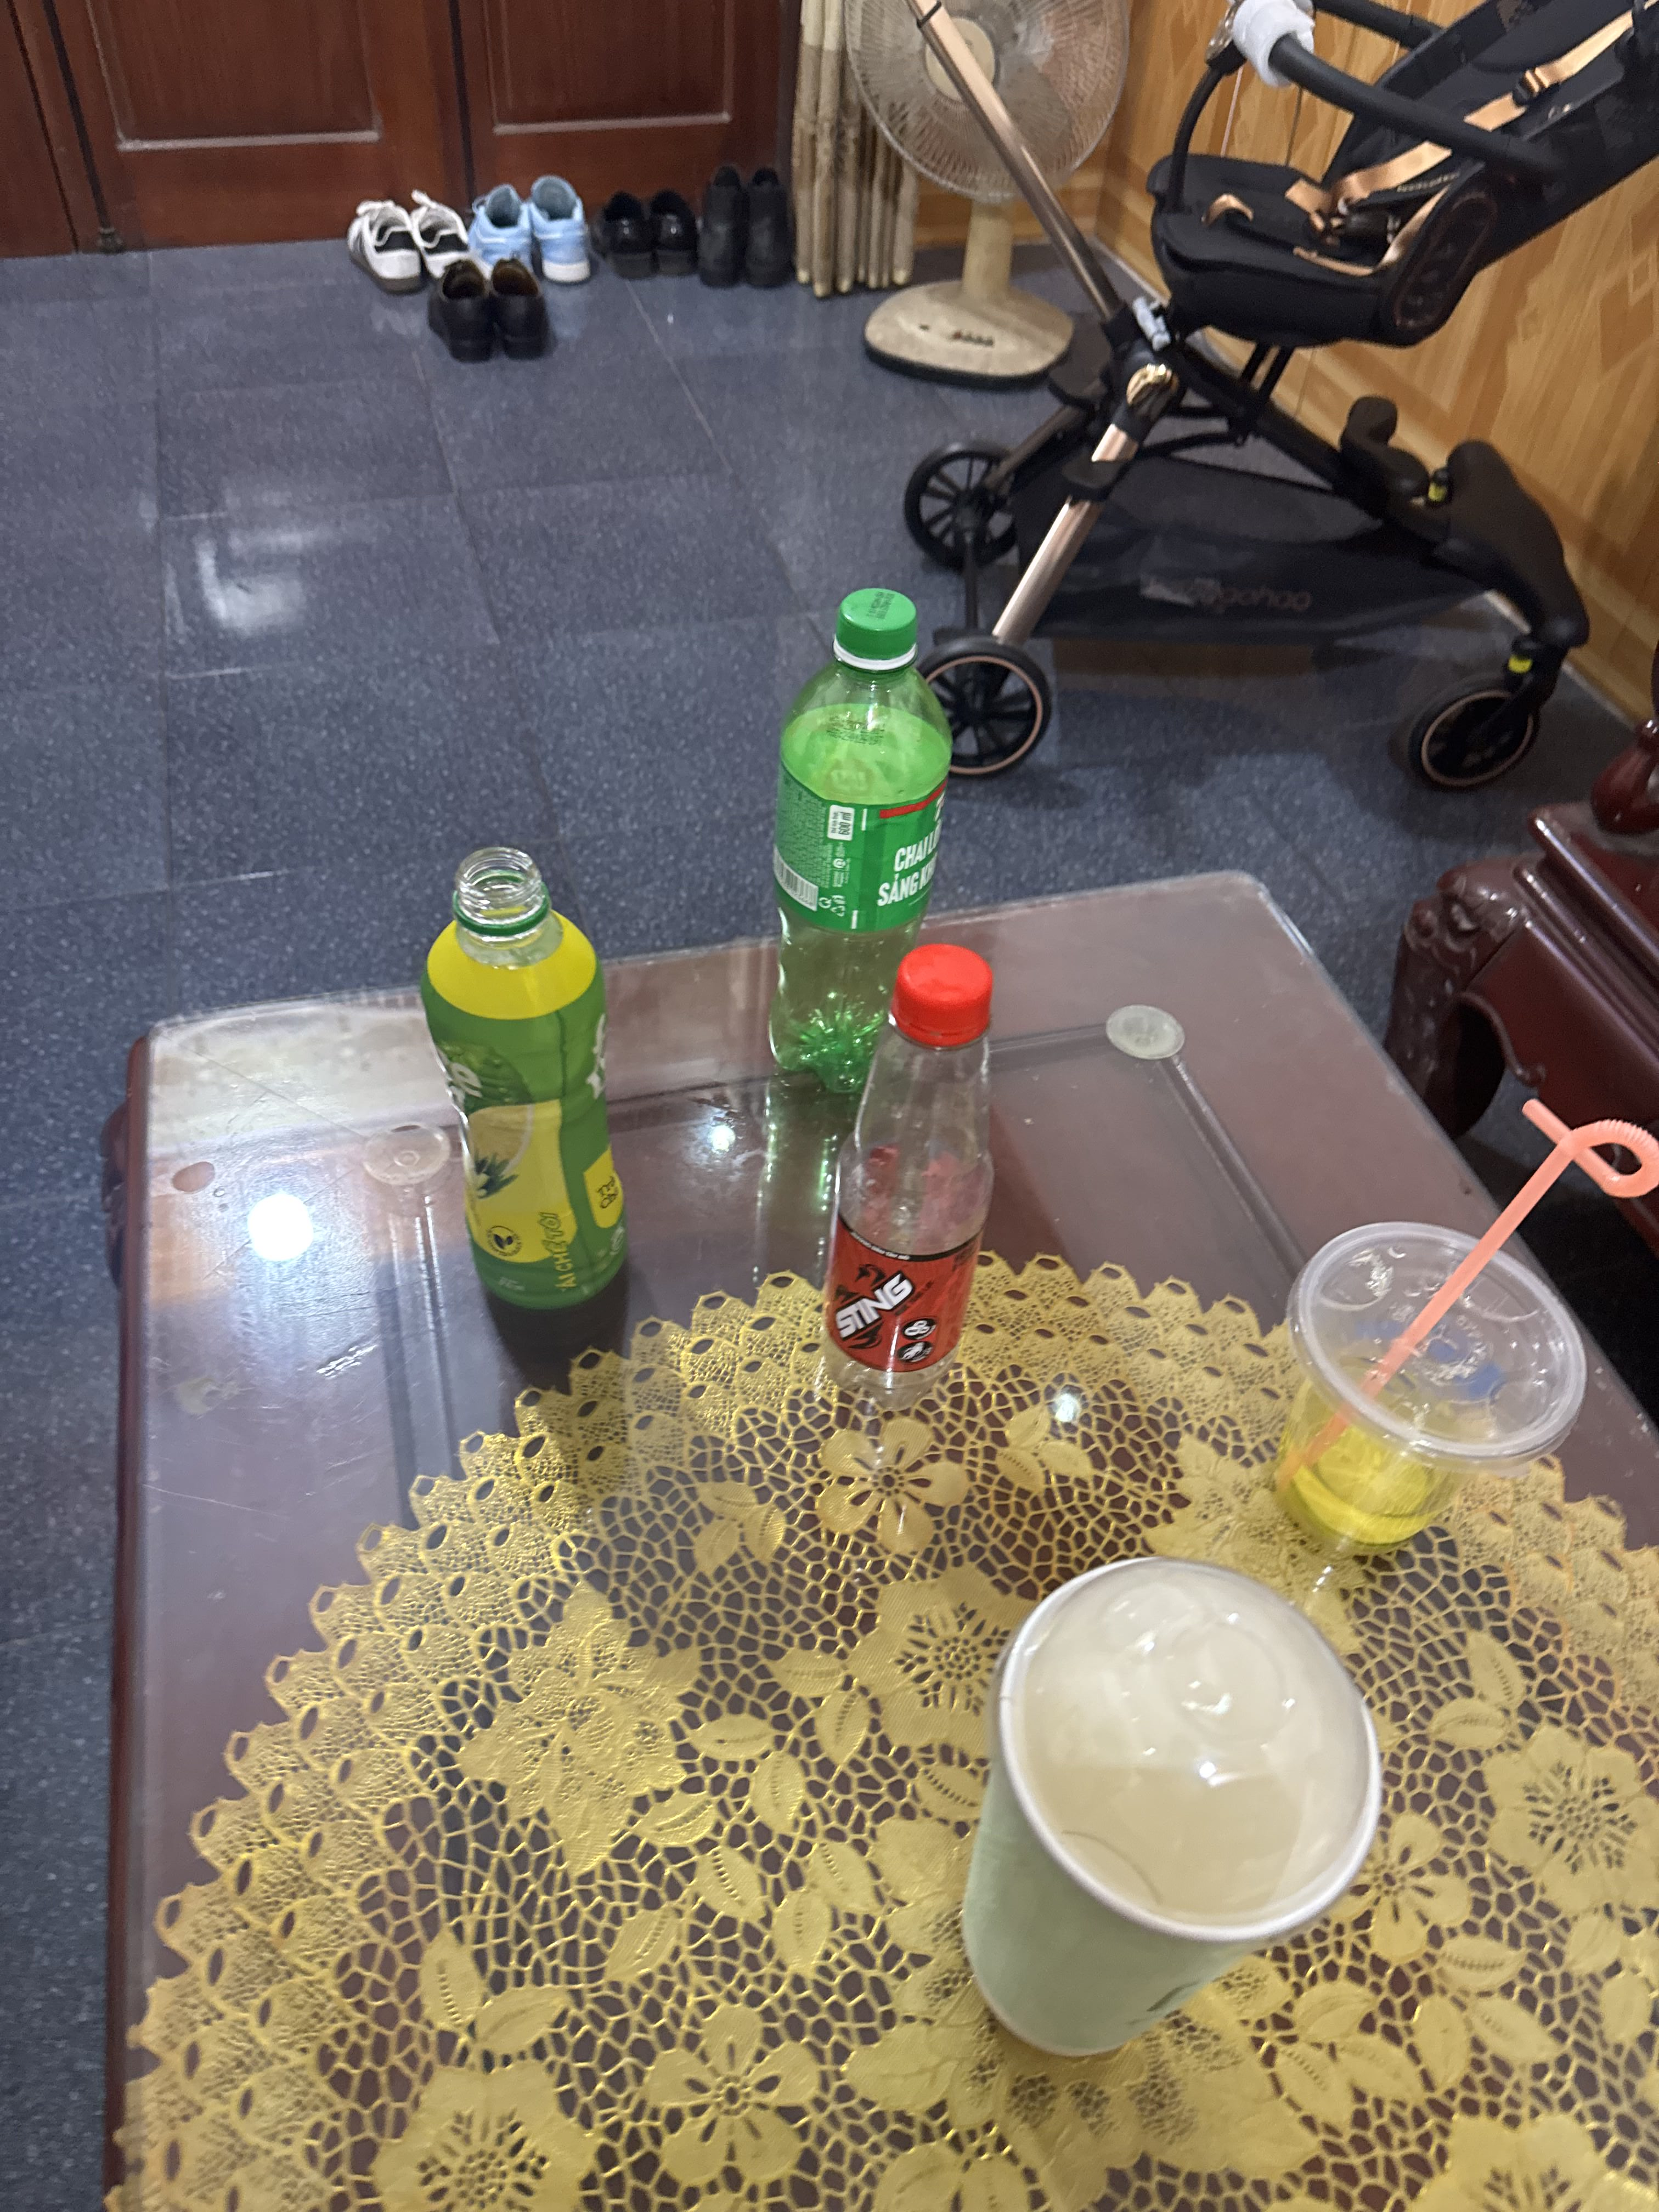2: (892, 1526, 1453, 2107), (1230, 1183, 1619, 1573)
bottle: (383, 822, 681, 1348), (779, 937, 1068, 1439), (749, 559, 976, 1106)
